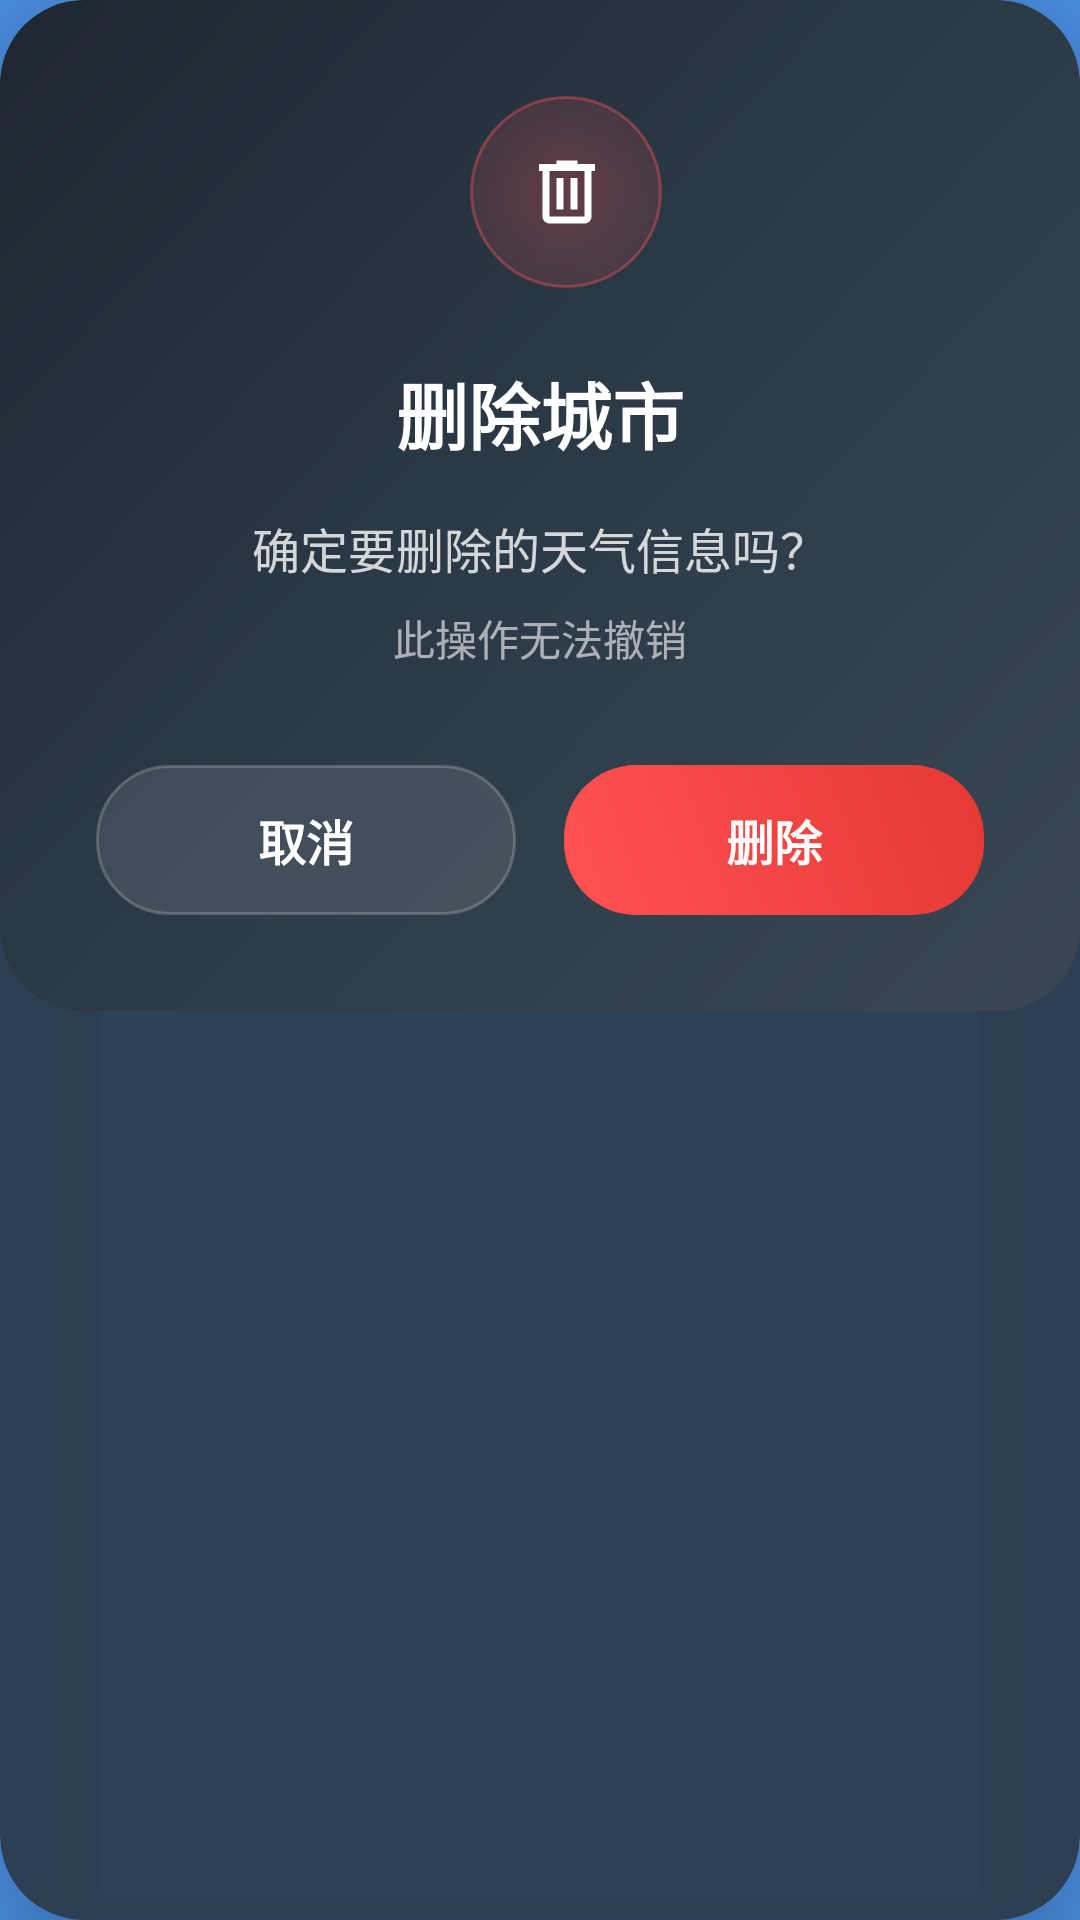

Icon bounding boxes for this 1080px x 1920px phone screenshot, format (left=x1, top=y1, right=x2, bottom=y2):
delete: (left=539, top=160, right=595, bottom=224)
